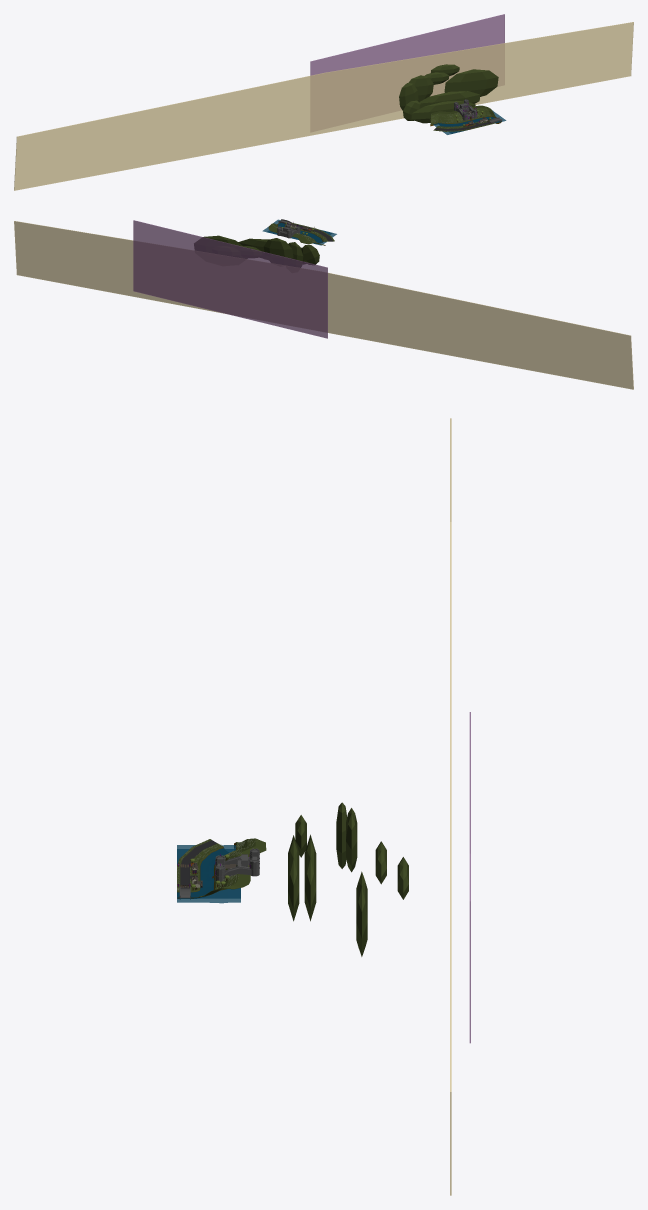
The model's file is MedievalALL.fbx.
3 renders of one model, top to bottom at view 1: azimuth 30°, elevation 25°; view 2: azimuth 150°, elevation 25°; view 3: azimuth 270°, elevation 25°, orthographic. The views are drawn at different scales.
Parts seen in each view (by area): view 1: Medieval_build; view 2: Medieval_build; view 3: Medieval_build.
Part boxes in pixels (x1,y1,x2,y2): Medieval_build: (14,14,633,190); Medieval_build: (14,219,633,389); Medieval_build: (177,418,470,1195).
Bounding box in the file's own units: 2095 × 288 × 430.
